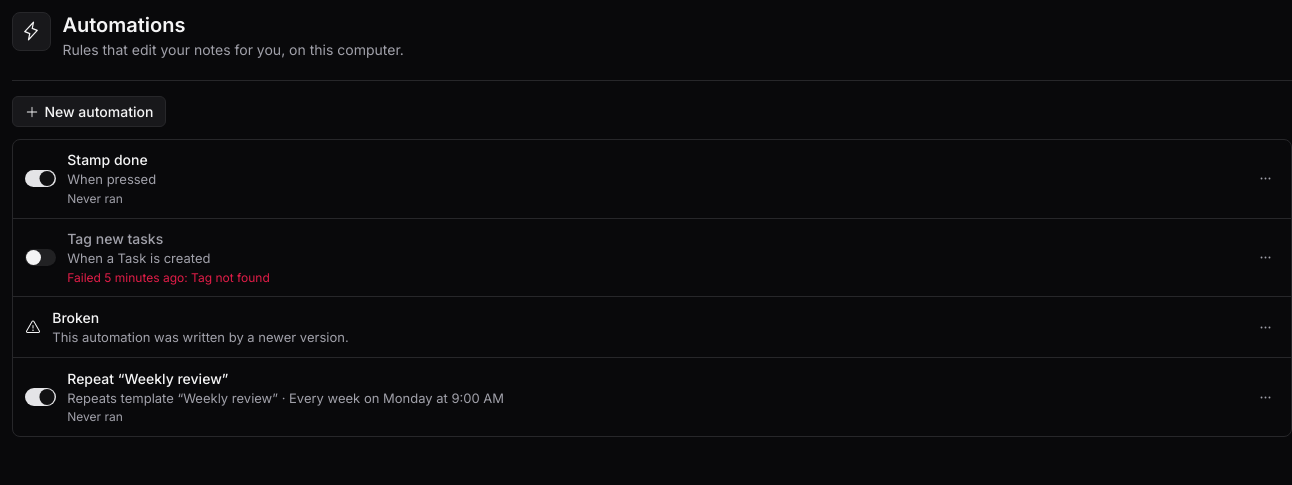
Test case: AutomationsSection › a second failure is shown
The image size is (1292, 485).
Click the switch named "Turned on: Stamp done" at (40, 179), box [25,170,56,188]
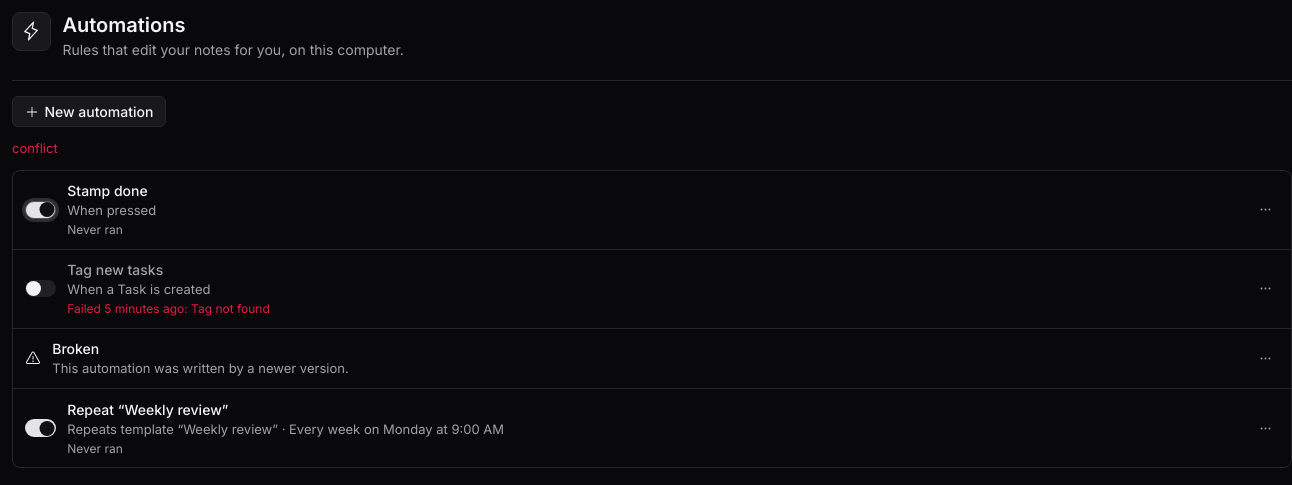
Result: the message "conflict" is shown at [12,140,58,156]
